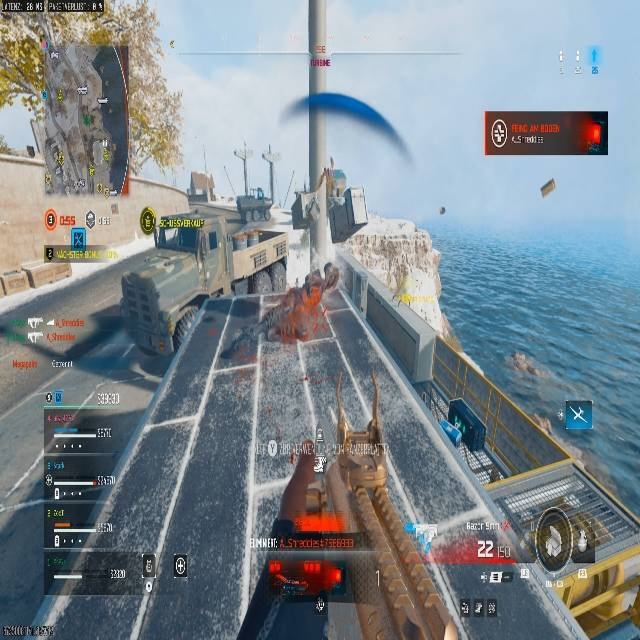head: (321, 163, 349, 192)
player: (288, 163, 368, 274)
